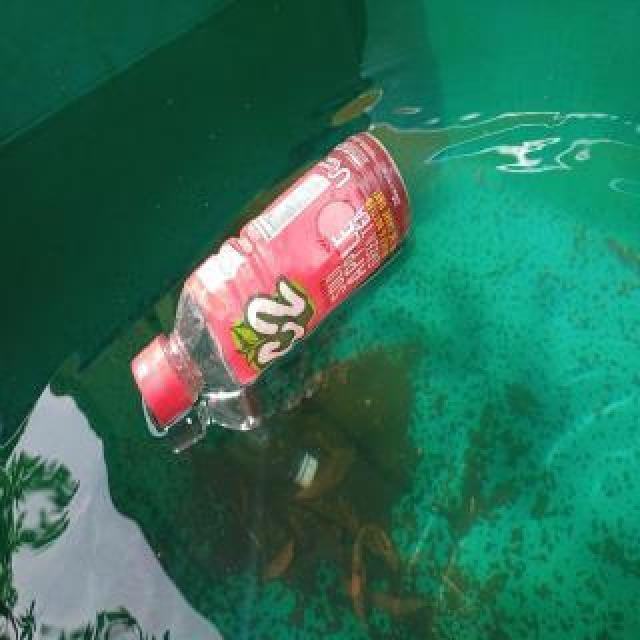bottle: (129, 128, 413, 432)
